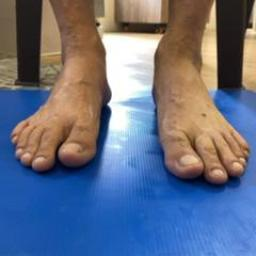Front View -Both Feet-: (3, 13, 255, 206)
